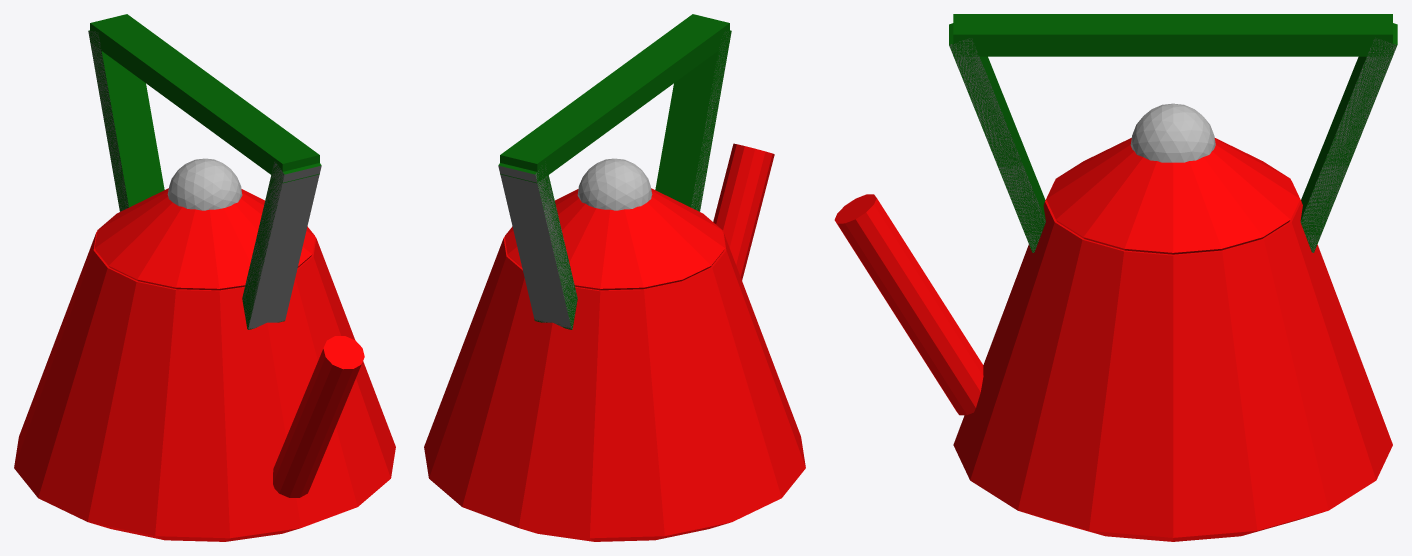
The model's file is room73b2-kettle.dae.
The picture shows the model from 3 angles, left to right: view 1: azimuth 30°, elevation 25°; view 2: azimuth 150°, elevation 25°; view 3: azimuth 270°, elevation 25°; orthographic projection. The views are drawn at different scales.
Visible parts, largest first — view 1: ROOM73B2-KETTLE-BODYSET2_node (×5), ROOM73B2-KETTLE-BODYSET3_node (×2); view 2: ROOM73B2-KETTLE-BODYSET2_node (×5), ROOM73B2-KETTLE-BODYSET3_node (×2); view 3: ROOM73B2-KETTLE-BODYSET2_node (×5), ROOM73B2-KETTLE-BODYSET3_node (×2).
Boxes of the visible parts, bbox=[...] form: ROOM73B2-KETTLE-BODYSET2_node (×5): bbox=[14, 14, 395, 541]; ROOM73B2-KETTLE-BODYSET3_node (×2): bbox=[88, 31, 321, 329]; ROOM73B2-KETTLE-BODYSET2_node (×5): bbox=[424, 14, 805, 541]; ROOM73B2-KETTLE-BODYSET3_node (×2): bbox=[498, 32, 730, 329]; ROOM73B2-KETTLE-BODYSET2_node (×5): bbox=[834, 14, 1397, 541]; ROOM73B2-KETTLE-BODYSET3_node (×2): bbox=[949, 38, 1397, 252].
Size of the model in its own units: 180 by 230 by 200.
